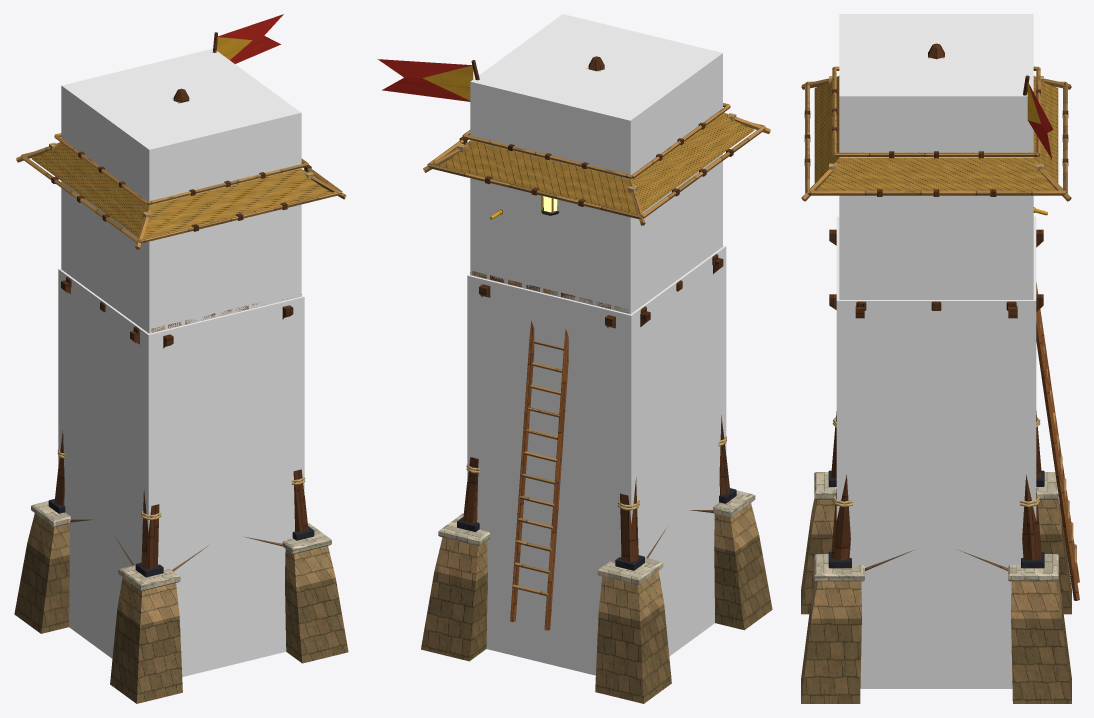
Rendered from watchtower_wood.glb.
The picture shows the model from 3 angles, left to right: view 1: azimuth 30°, elevation 25°; view 2: azimuth 150°, elevation 25°; view 3: azimuth 270°, elevation 25°; orthographic projection. The views are drawn at different scales.
Visible parts, largest first — view 1: col_watch_base, col_watch_deck, WatchtowerWood; view 2: col_watch_base, col_watch_deck, WatchtowerWood; view 3: col_watch_base, col_watch_deck, WatchtowerWood.
Boxes of the visible parts, <box> form: col_watch_base: <box>58,268,304,676</box>; col_watch_deck: <box>61,48,301,333</box>; WatchtowerWood: <box>14,14,348,703</box>; col_watch_base: <box>467,245,726,675</box>; col_watch_deck: <box>470,14,722,314</box>; WatchtowerWood: <box>377,56,772,703</box>; col_watch_base: <box>836,216,1036,688</box>; col_watch_deck: <box>839,14,1033,299</box>; WatchtowerWood: <box>801,43,1079,703</box>.
Bounding box in the file's own units: 5.43 × 10.97 × 4.53.
Materials: 10 (8 with a texture image).
